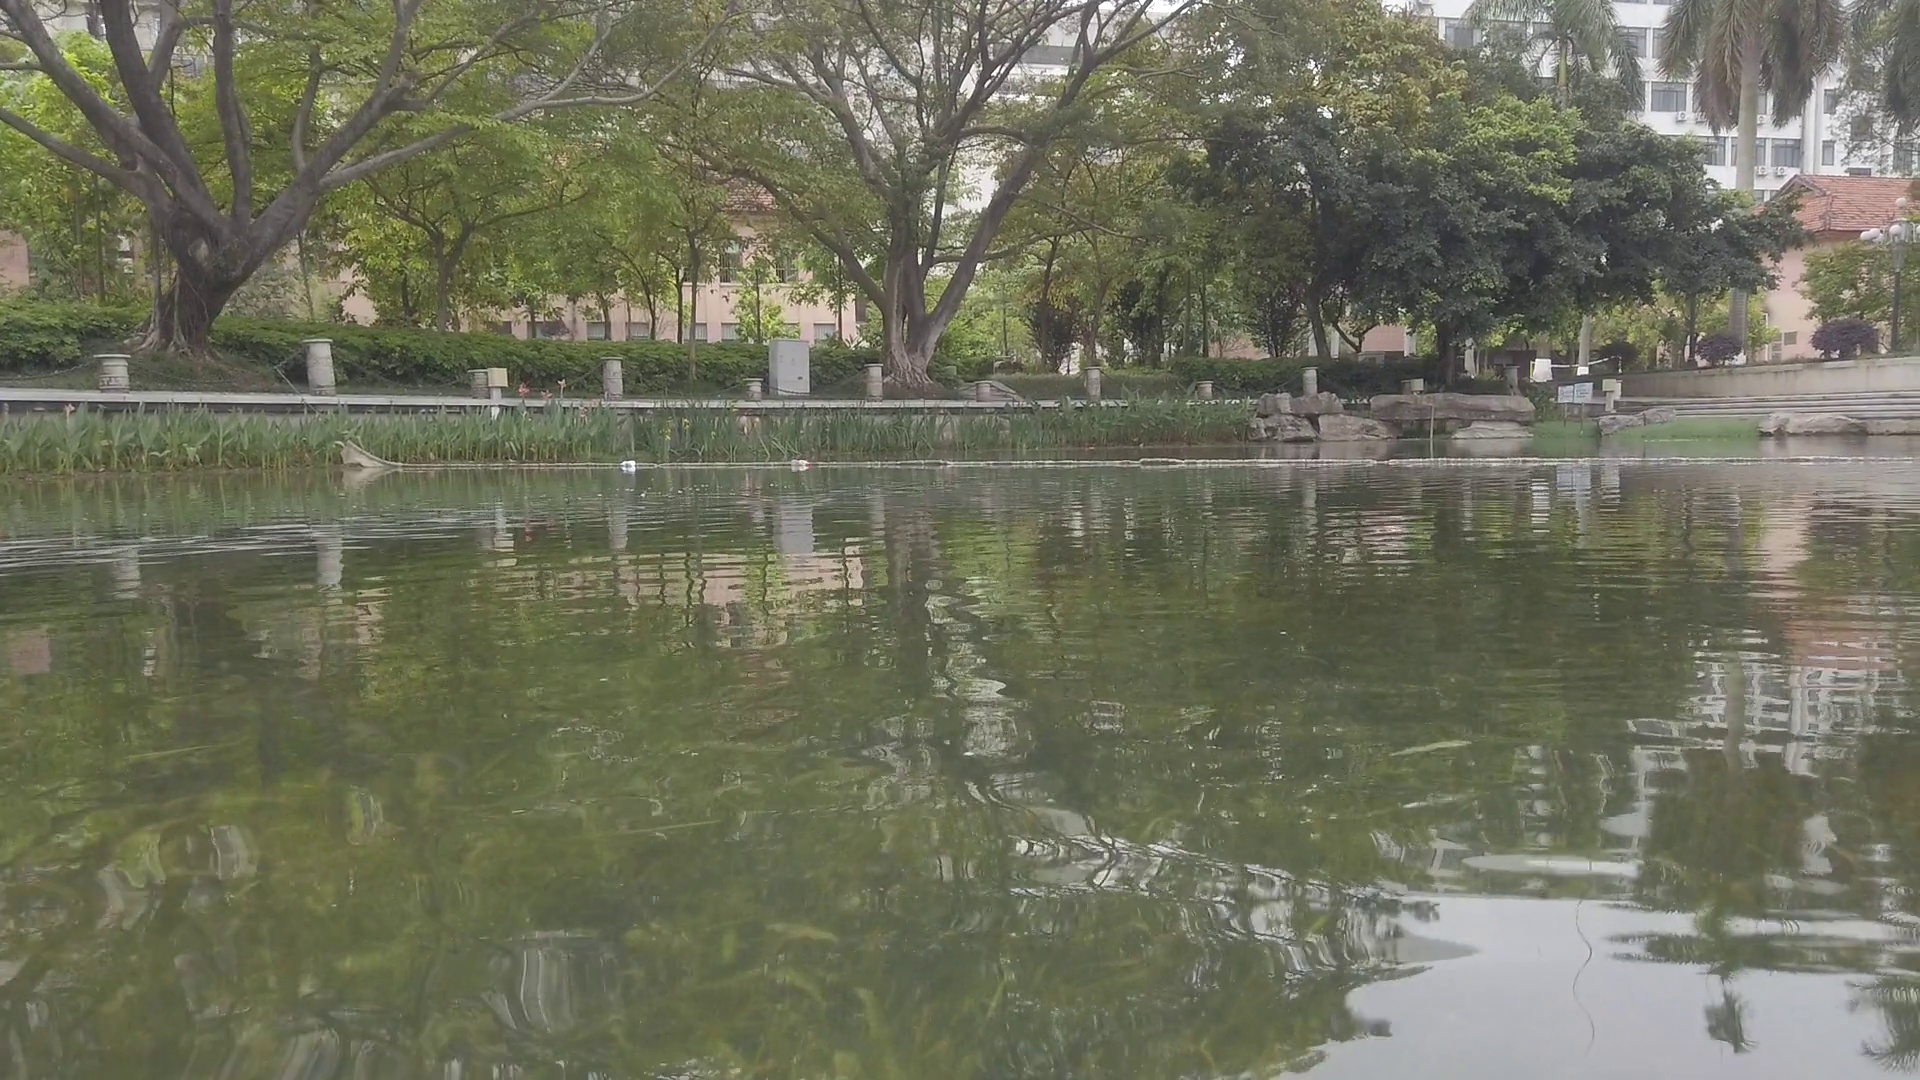bottle: (790, 459, 811, 465), (620, 460, 636, 465)
